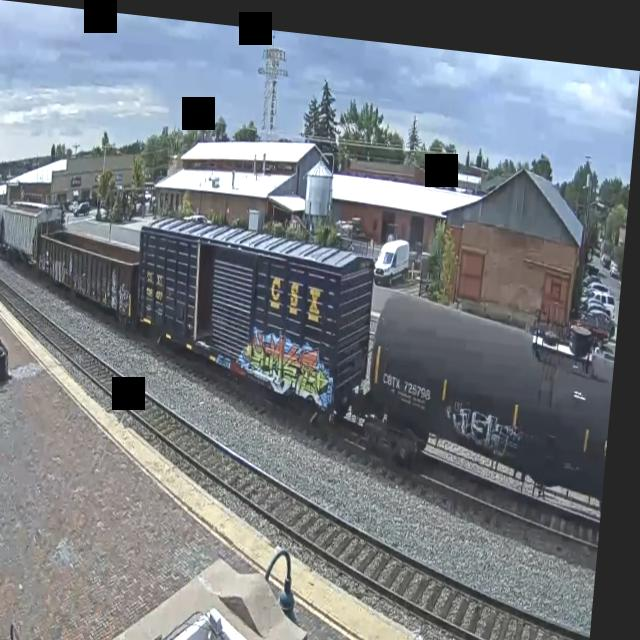boxcar: (128, 198, 388, 425)
gondola: (35, 219, 149, 330)
tank: (363, 264, 624, 523)
